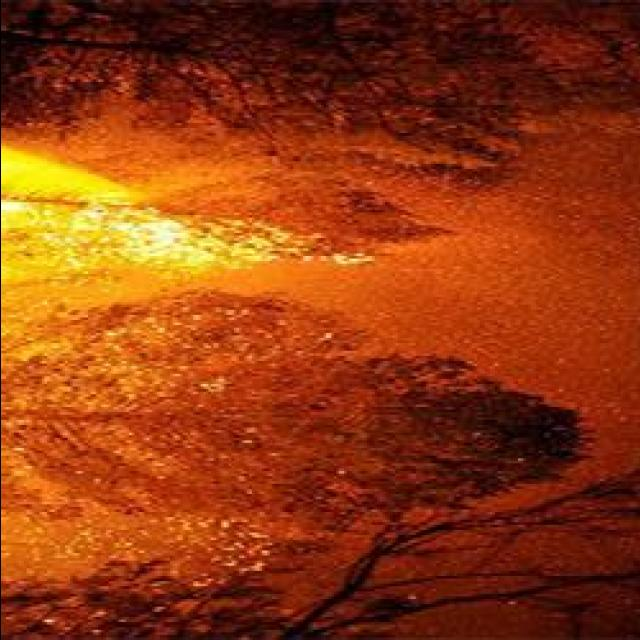fire: (36, 208, 322, 274)
